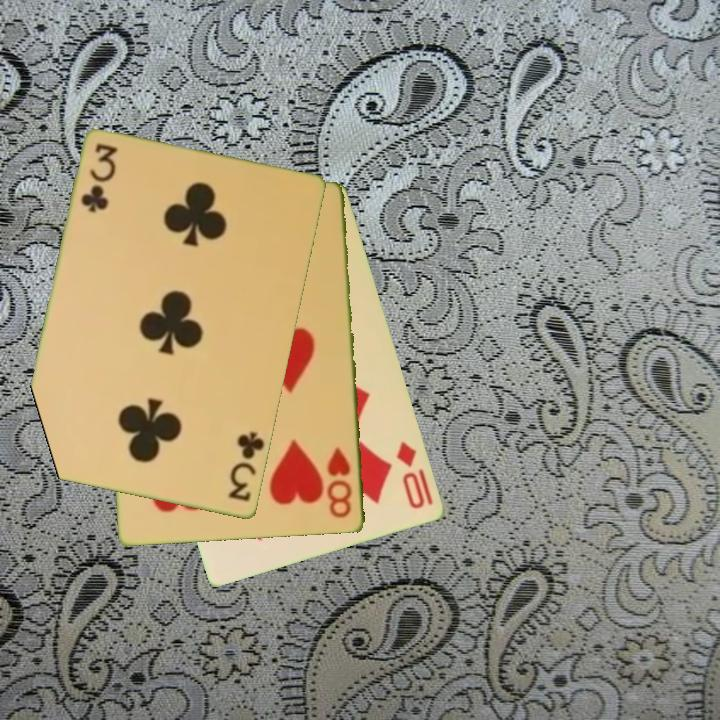10d: (393, 438, 437, 512)
3c: (225, 429, 268, 505), (78, 141, 120, 217)
8h: (324, 444, 355, 521)
